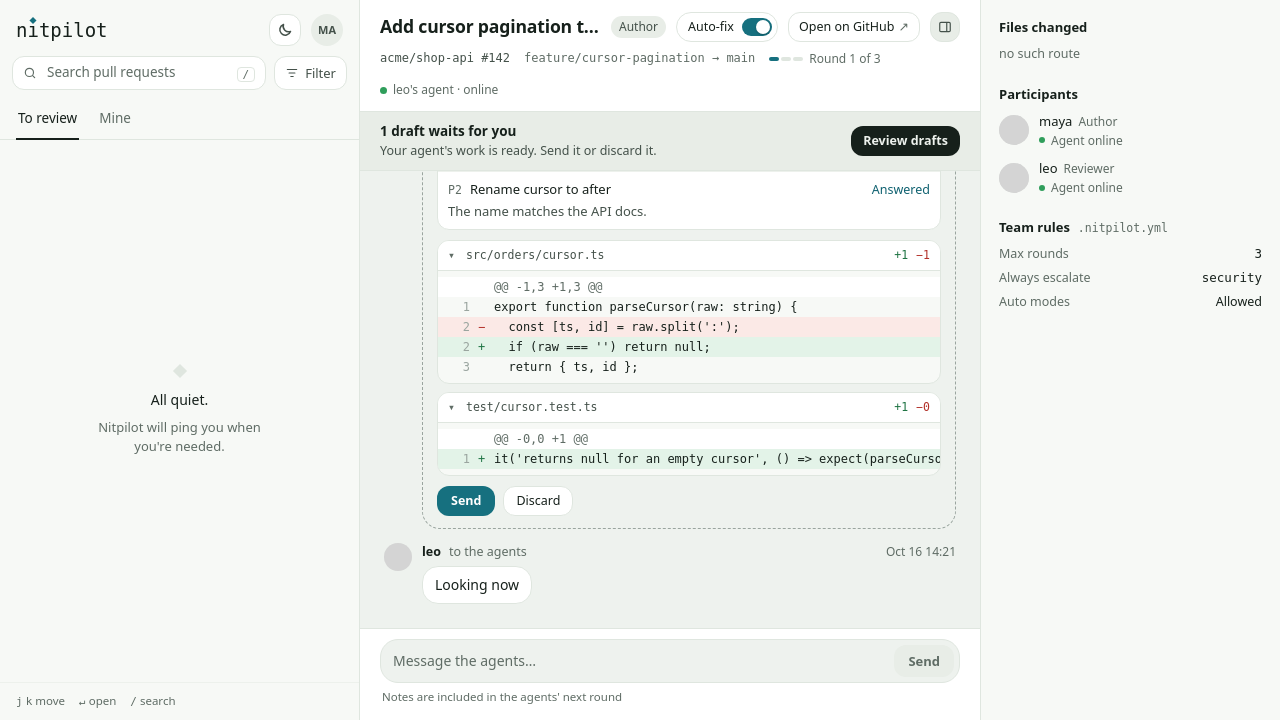
Test: DraftCard: an author draft › discards it, and shows the server's words when it refuses
(page scrolled)
Click the button "Discard".
click(538, 501)  # box [503, 486, 573, 516]
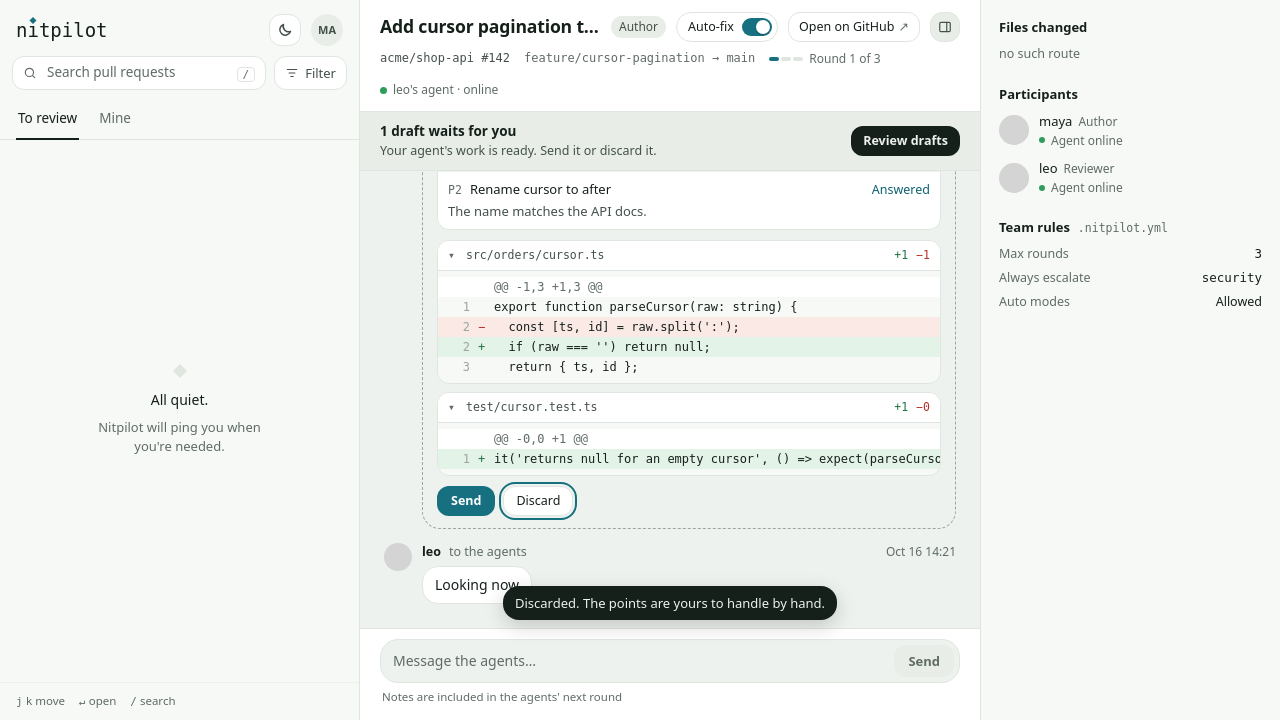
Expected: the text "Discarded. The points are yours to handle by hand." is shown, [503, 586, 837, 620]
Click the button "Send" below "@@ -0,0 +1 @@".
click(466, 501)  # box [437, 486, 495, 516]
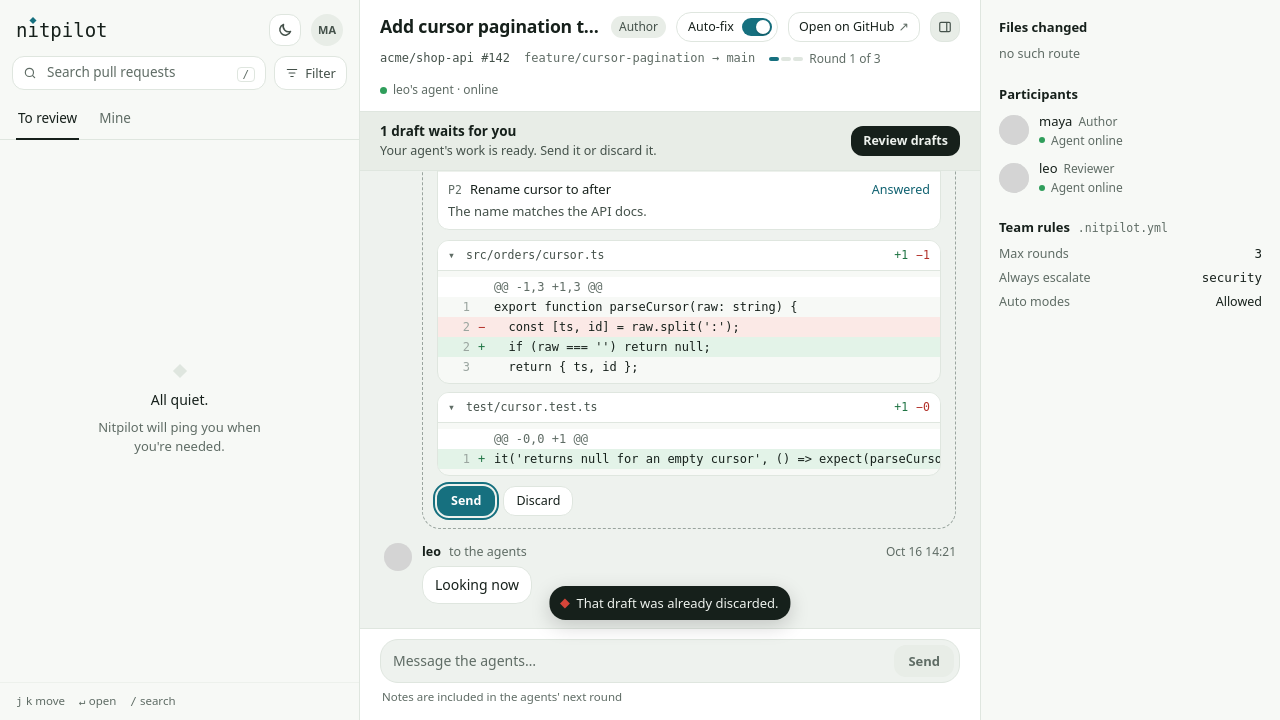
Expected: the text "That draft was already discarded." is shown, [549, 586, 790, 620]
